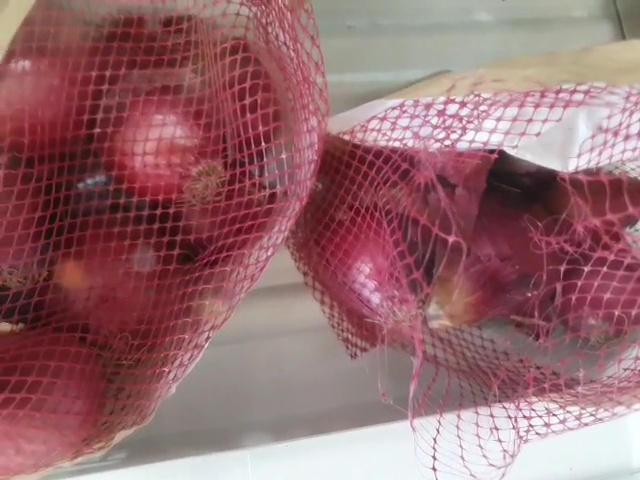red_onion: (1, 7, 279, 474), (387, 154, 621, 377)
